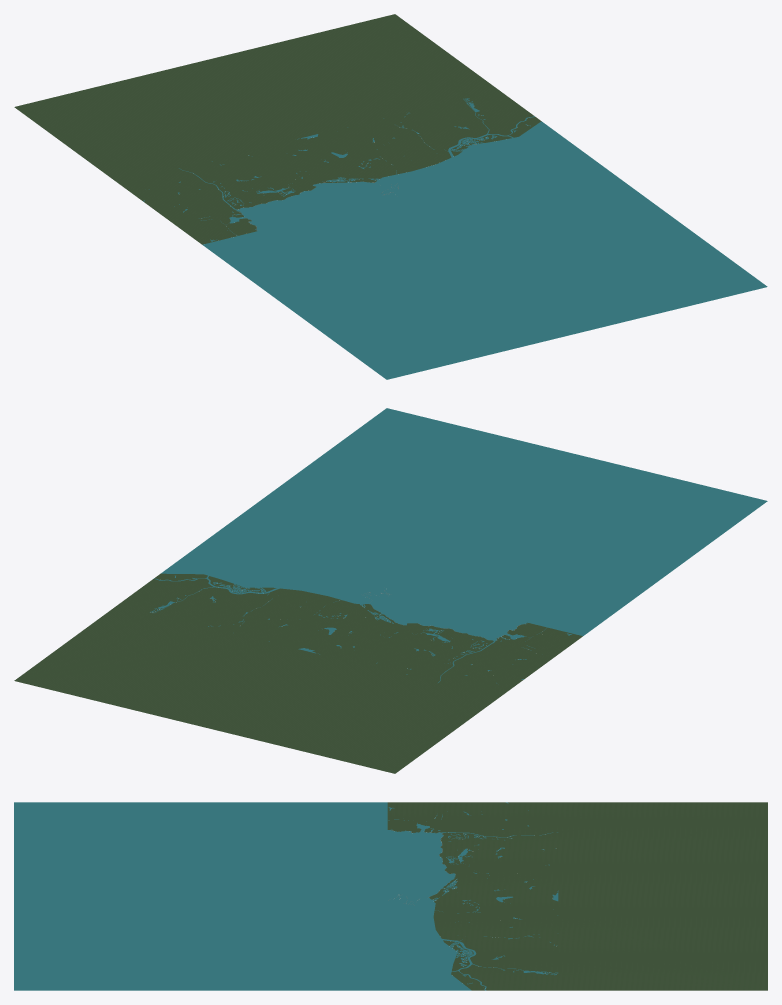
File: terrain.glb
The picture shows the model from 3 angles, top to bottom: view 1: azimuth 30°, elevation 25°; view 2: azimuth 150°, elevation 25°; view 3: azimuth 270°, elevation 25°; orthographic projection.
Visible parts, largest first — view 1: terrain_water, terrain_land, terrain_park; view 2: terrain_water, terrain_land, terrain_park; view 3: terrain_water, terrain_land, terrain_park.
Boxes of the visible parts, x1,y1,x2,y2 form: terrain_water: [143, 98, 767, 379]; terrain_land: [14, 14, 540, 244]; terrain_park: [118, 94, 541, 242]; terrain_water: [150, 408, 767, 683]; terrain_land: [14, 573, 582, 773]; terrain_park: [121, 573, 578, 697]; terrain_water: [14, 802, 558, 990]; terrain_land: [387, 802, 767, 990]; terrain_park: [387, 802, 558, 990].
Size of the model in its own units: 13576 by 0.7974 by 23000.
5 materials, 3 textured.
